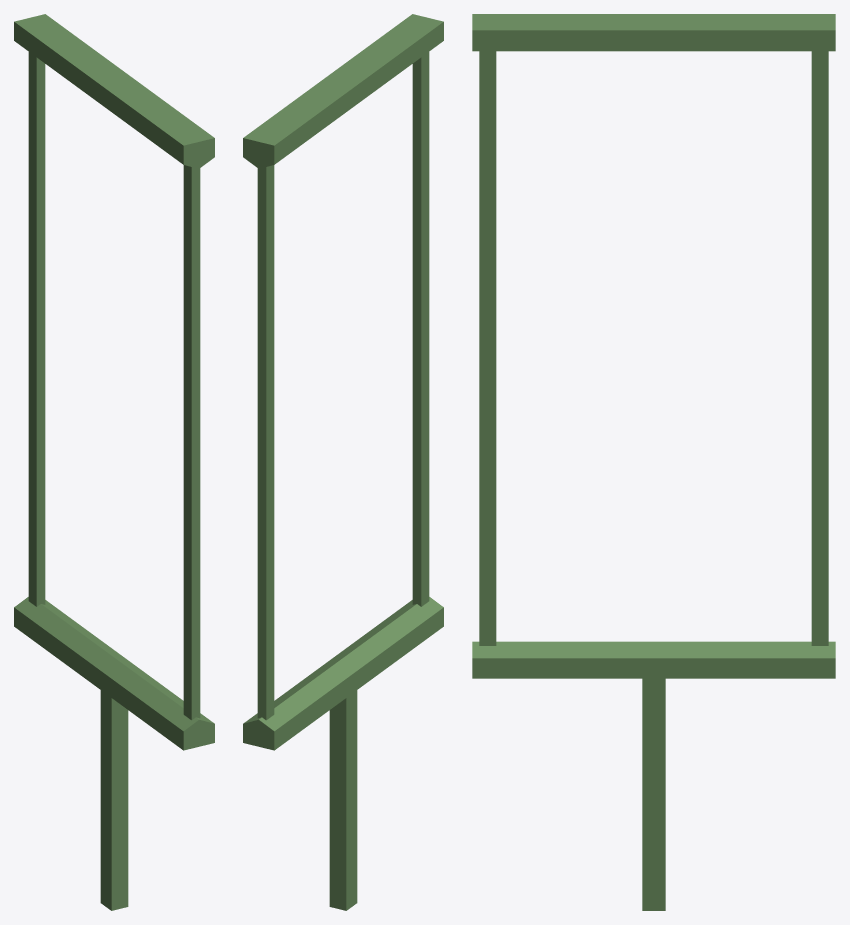
The model's file is BannerVertical_Frame.fbx.
3 views of the same model, side by side, from view 1: azimuth 30°, elevation 25°; view 2: azimuth 150°, elevation 25°; view 3: azimuth 270°, elevation 25° (orthographic). The views are drawn at different scales.
Visible parts, largest first — view 1: BannerVertical_Frame; view 2: BannerVertical_Frame; view 3: BannerVertical_Frame.
Part boxes in pixels (bbox=[...]): BannerVertical_Frame: bbox=[14, 14, 214, 910]; BannerVertical_Frame: bbox=[243, 14, 443, 910]; BannerVertical_Frame: bbox=[472, 14, 835, 910].
Size of the model in its own units: 0.7171 by 18.05 by 6.72.
